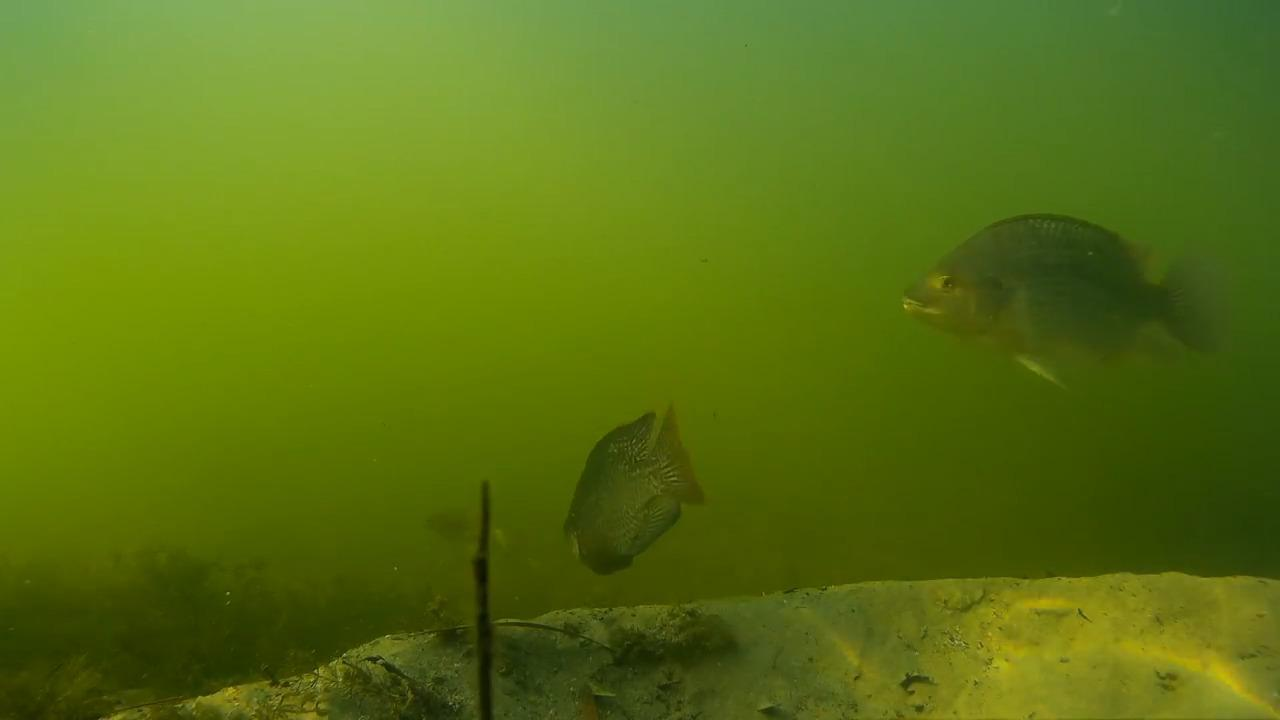Tilapia: (887, 200, 1222, 384), (554, 390, 715, 592)
